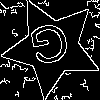G: (27, 22, 74, 74)
